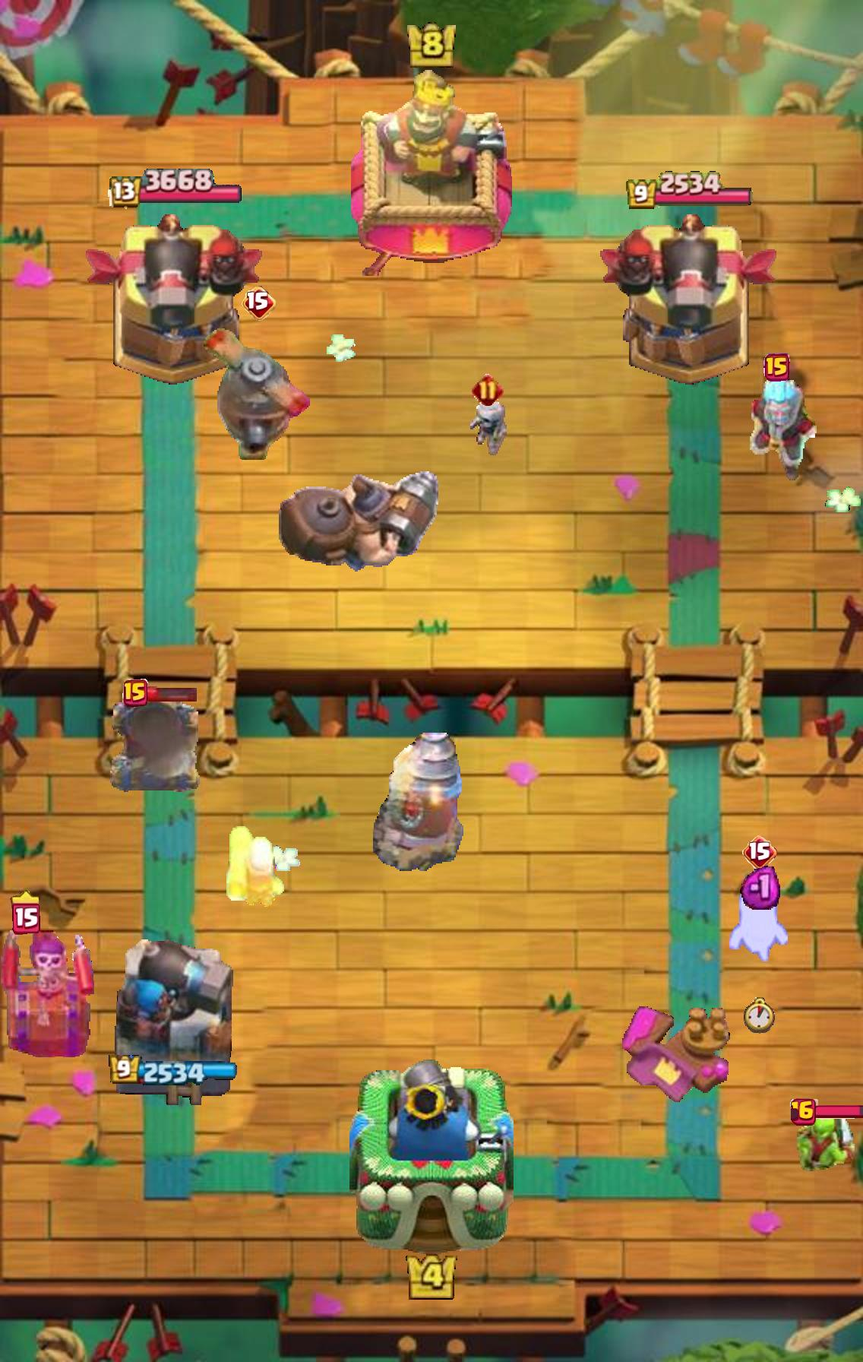bar: (144, 684, 198, 702), (814, 1105, 863, 1120)
bar-level: (10, 890, 40, 934), (242, 286, 277, 321), (742, 835, 777, 870), (472, 374, 504, 406), (790, 1099, 818, 1127), (763, 354, 790, 382), (122, 679, 148, 708)
